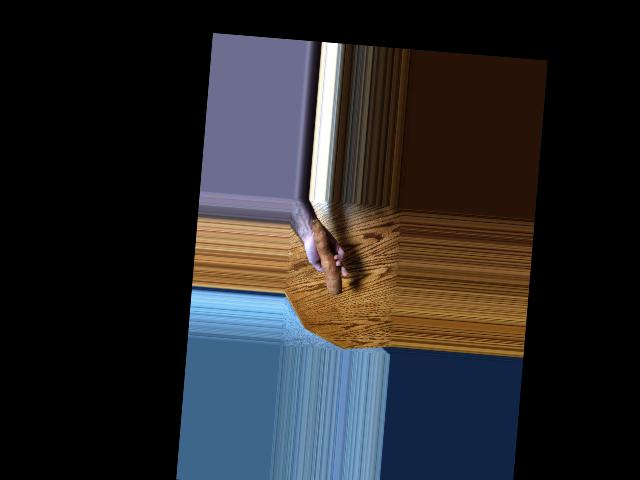sweet_potato: (304, 218, 342, 292)
